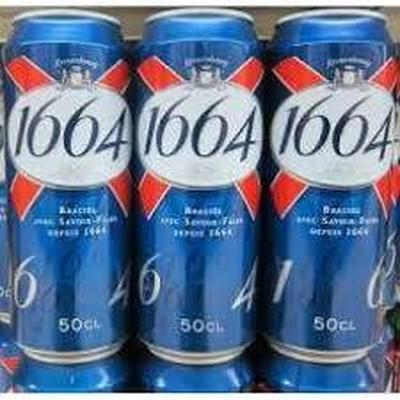beer: (2, 6, 398, 367)
